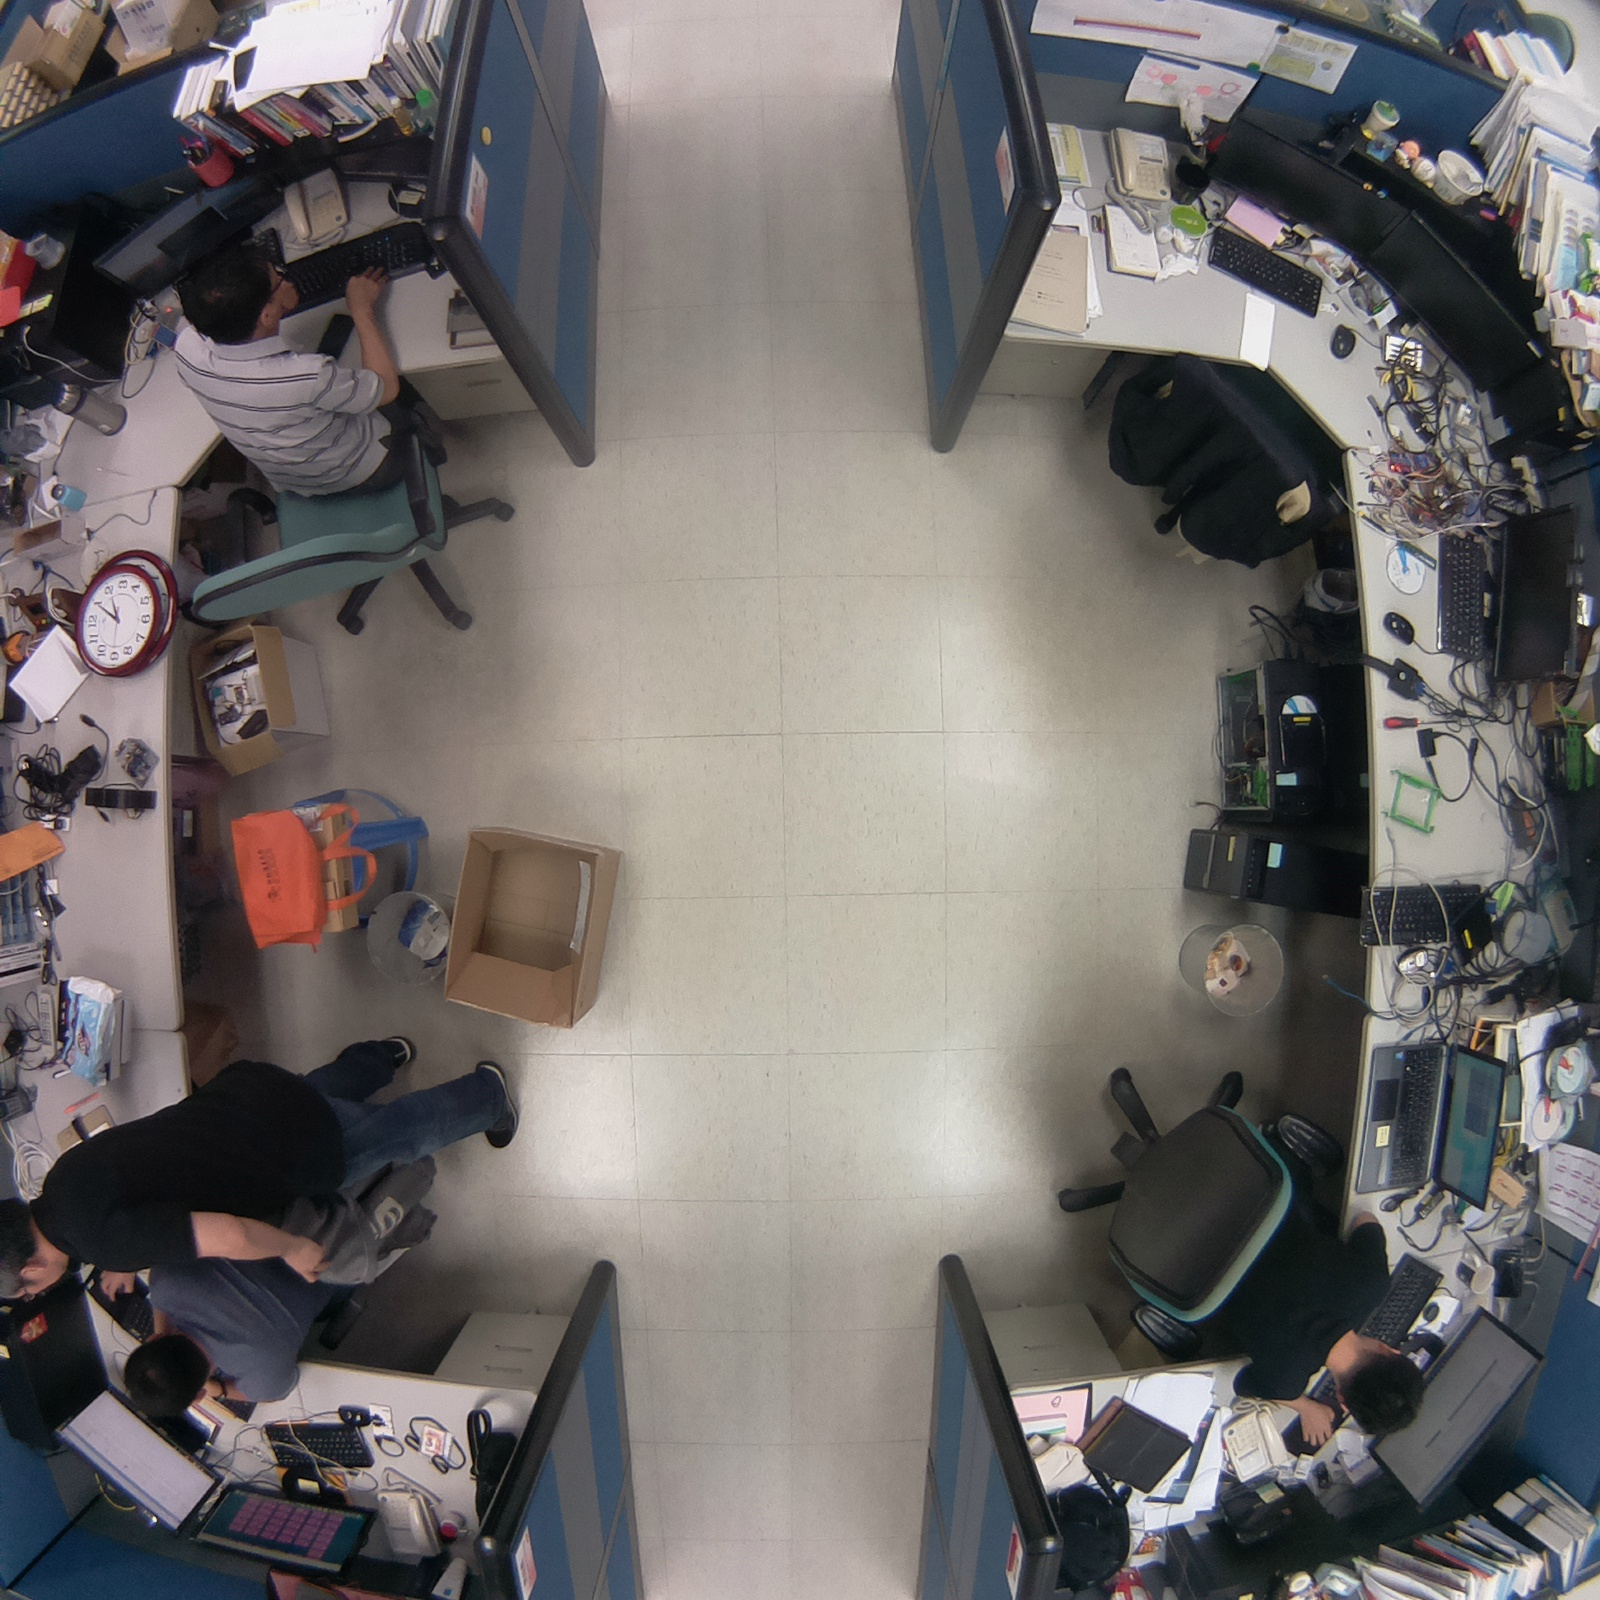chair: (1078, 322, 1363, 588)
head: (162, 227, 305, 347), (1331, 1333, 1429, 1443), (115, 1325, 215, 1422), (1, 1192, 46, 1309)
sitting: (158, 217, 555, 652), (1040, 1045, 1437, 1458), (112, 1160, 455, 1437)
standing: (1, 1006, 547, 1316)
